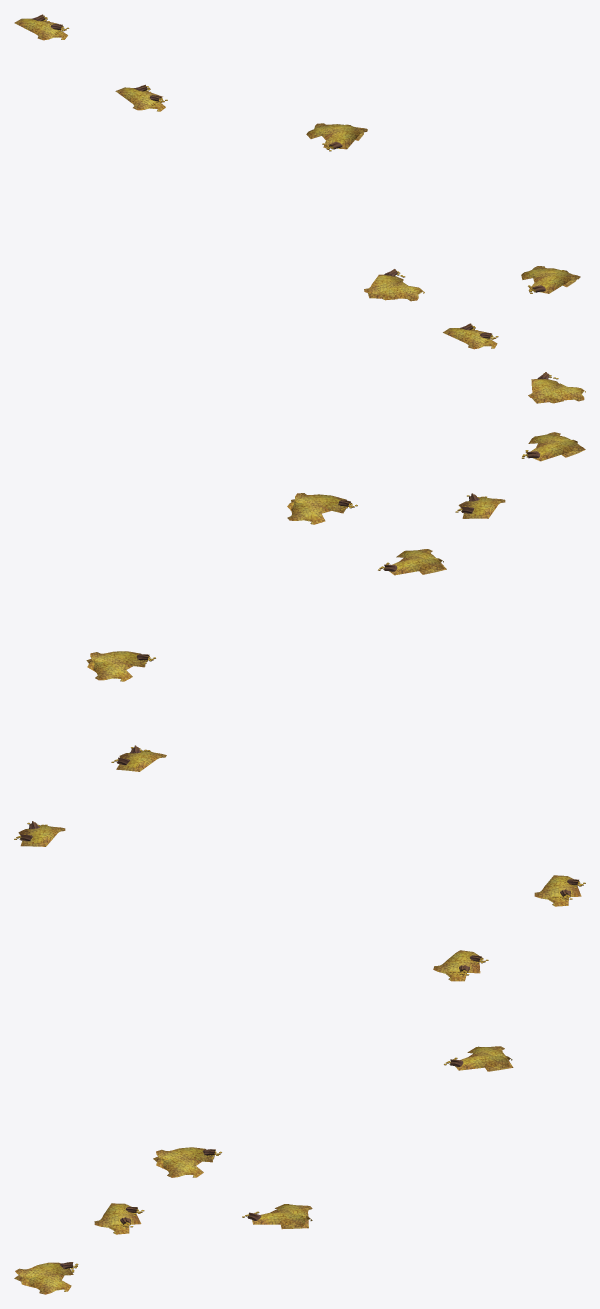
File: wujian21.fbx
3 views of the same model, one above another, from view 1: azimuth 30°, elevation 25°; view 2: azimuth 150°, elevation 25°; view 3: azimuth 330°, elevation 25° (orthographic). The views are drawn at different scales.
Parts seen in each view (by area): view 1: wujian21; view 2: wujian21; view 3: wujian21.
Part boxes in pixels (left/top/right/bottom): wujian21: left=14, top=14, right=585, bottom=403; wujian21: left=14, top=432, right=585, bottom=846; wujian21: left=14, top=875, right=585, bottom=1294.
Size of the model in its own units: 1909 by 104 by 9733.
1 material, 1 textured.
